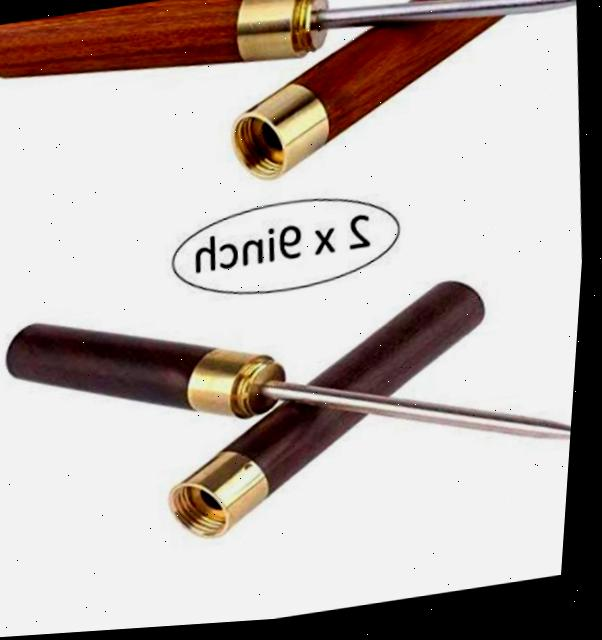ice pick: (0, 244, 588, 533), (0, 0, 579, 106)
